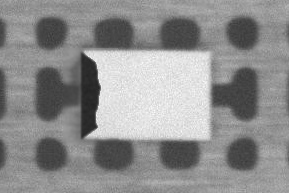DIE_BROKEN: (78, 52, 101, 139)
